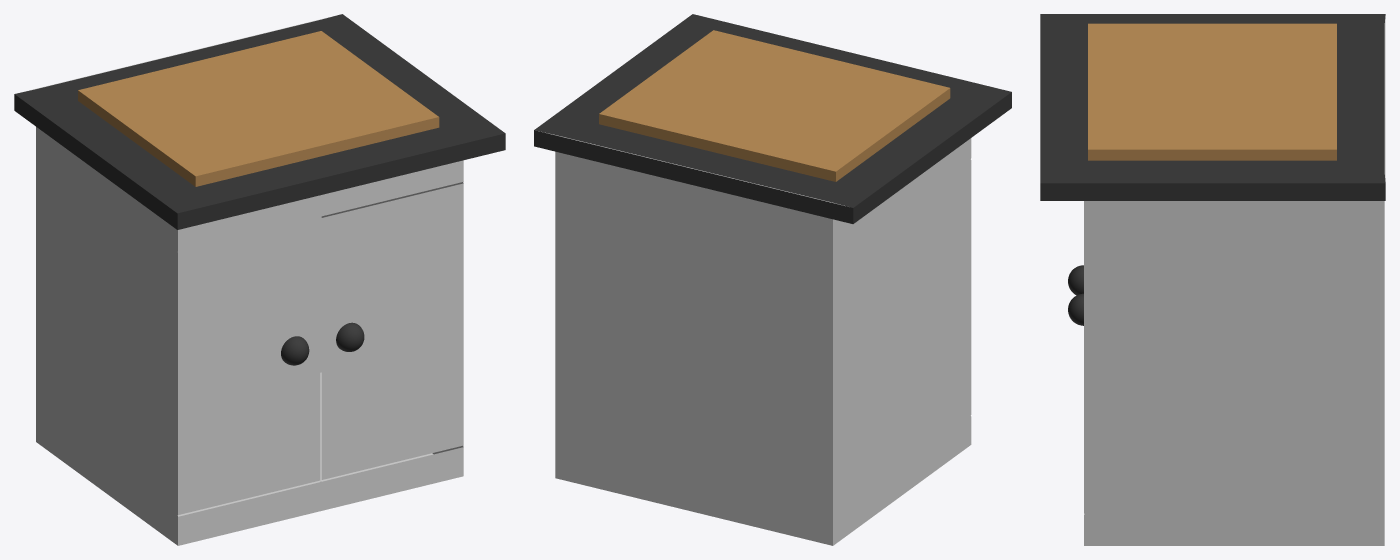
The model's file is deska.fbx.
The picture shows the model from 3 angles, left to right: view 1: azimuth 30°, elevation 25°; view 2: azimuth 150°, elevation 25°; view 3: azimuth 270°, elevation 25°; orthographic projection. The views are drawn at different scales.
Parts seen in each view (by area): view 1: Cube, Cube.003, Cube.002; view 2: Cube; view 3: Cube.
Part boxes in pixels (x1=…): Cube: x1=14, y1=14, x2=505, y2=545; Cube.003: x1=336, y1=322, x2=364, y2=351; Cube.002: x1=281, y1=336, x2=309, y2=365; Cube: x1=534, y1=14, x2=1011, y2=545; Cube: x1=1040, y1=14, x2=1385, y2=545.
Size of the model in its own units: 267 by 283 by 230.
